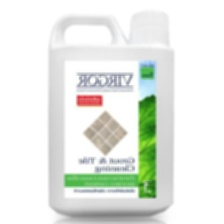cleaning_solution: (42, 6, 177, 219)
